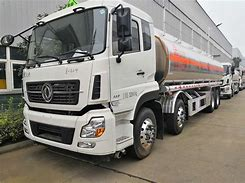oil truck: (13, 0, 222, 160)
